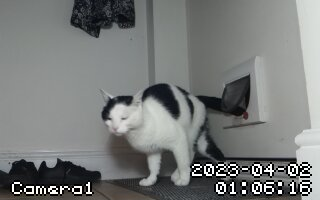bad: (96, 79, 247, 199)
